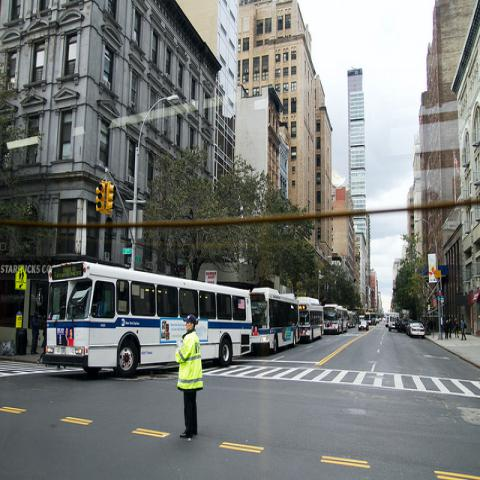bus: (42, 255, 253, 379), (251, 286, 300, 354), (296, 297, 324, 344), (322, 304, 348, 334), (365, 312, 376, 325), (348, 311, 356, 328)
car: (406, 322, 426, 338), (358, 321, 370, 331), (400, 319, 408, 333), (385, 316, 389, 327), (376, 318, 380, 324), (378, 318, 382, 321)
